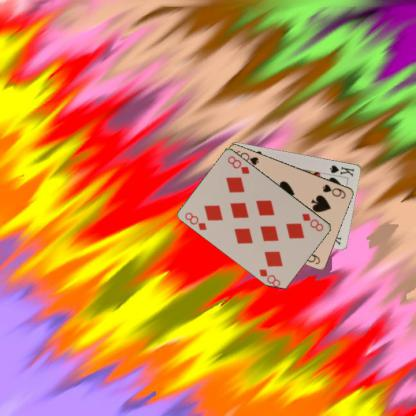6s: (320, 181, 347, 200)
8d: (183, 209, 208, 232), (299, 211, 325, 232)
Ks: (327, 162, 355, 178)
